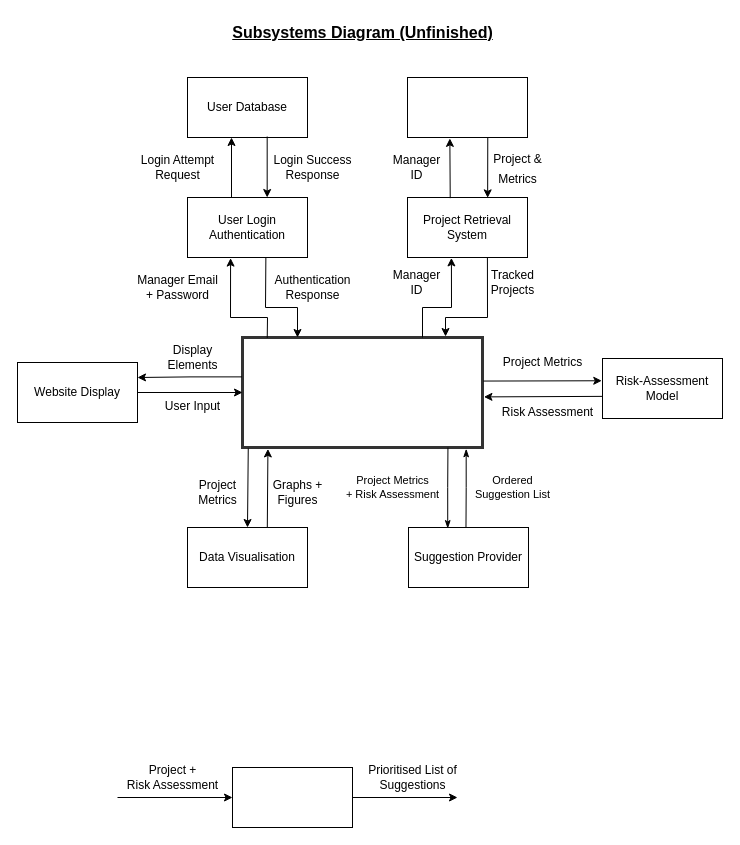
Image size: 740x845. Some labels were removed from this diagram. Each missing label, with the box of its shape:
Main Controller: (240, 336, 484, 448)
Project Database: (406, 76, 528, 138)
Suggestions Provider: (232, 766, 352, 828)
